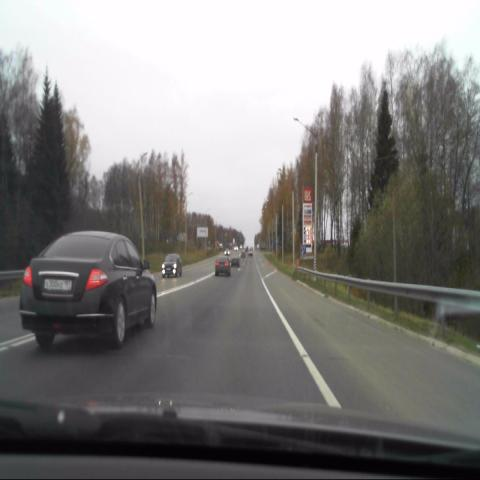5_15_3: (300, 243, 306, 254)
